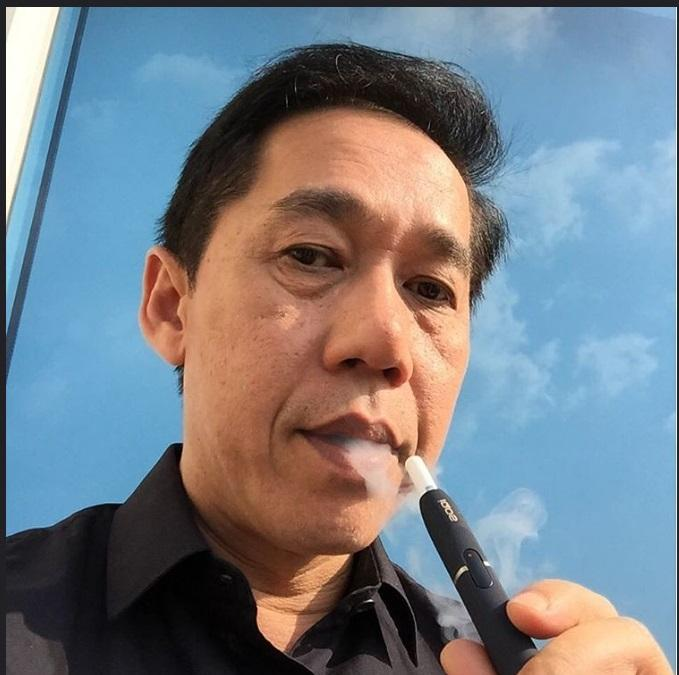iqos: (405, 456, 535, 674)
